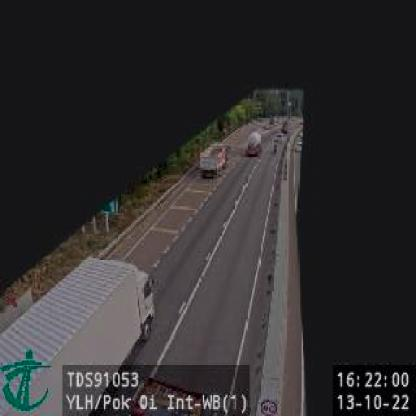Car: (247, 135, 261, 156)
Truck: (0, 256, 155, 416), (201, 142, 232, 180)
